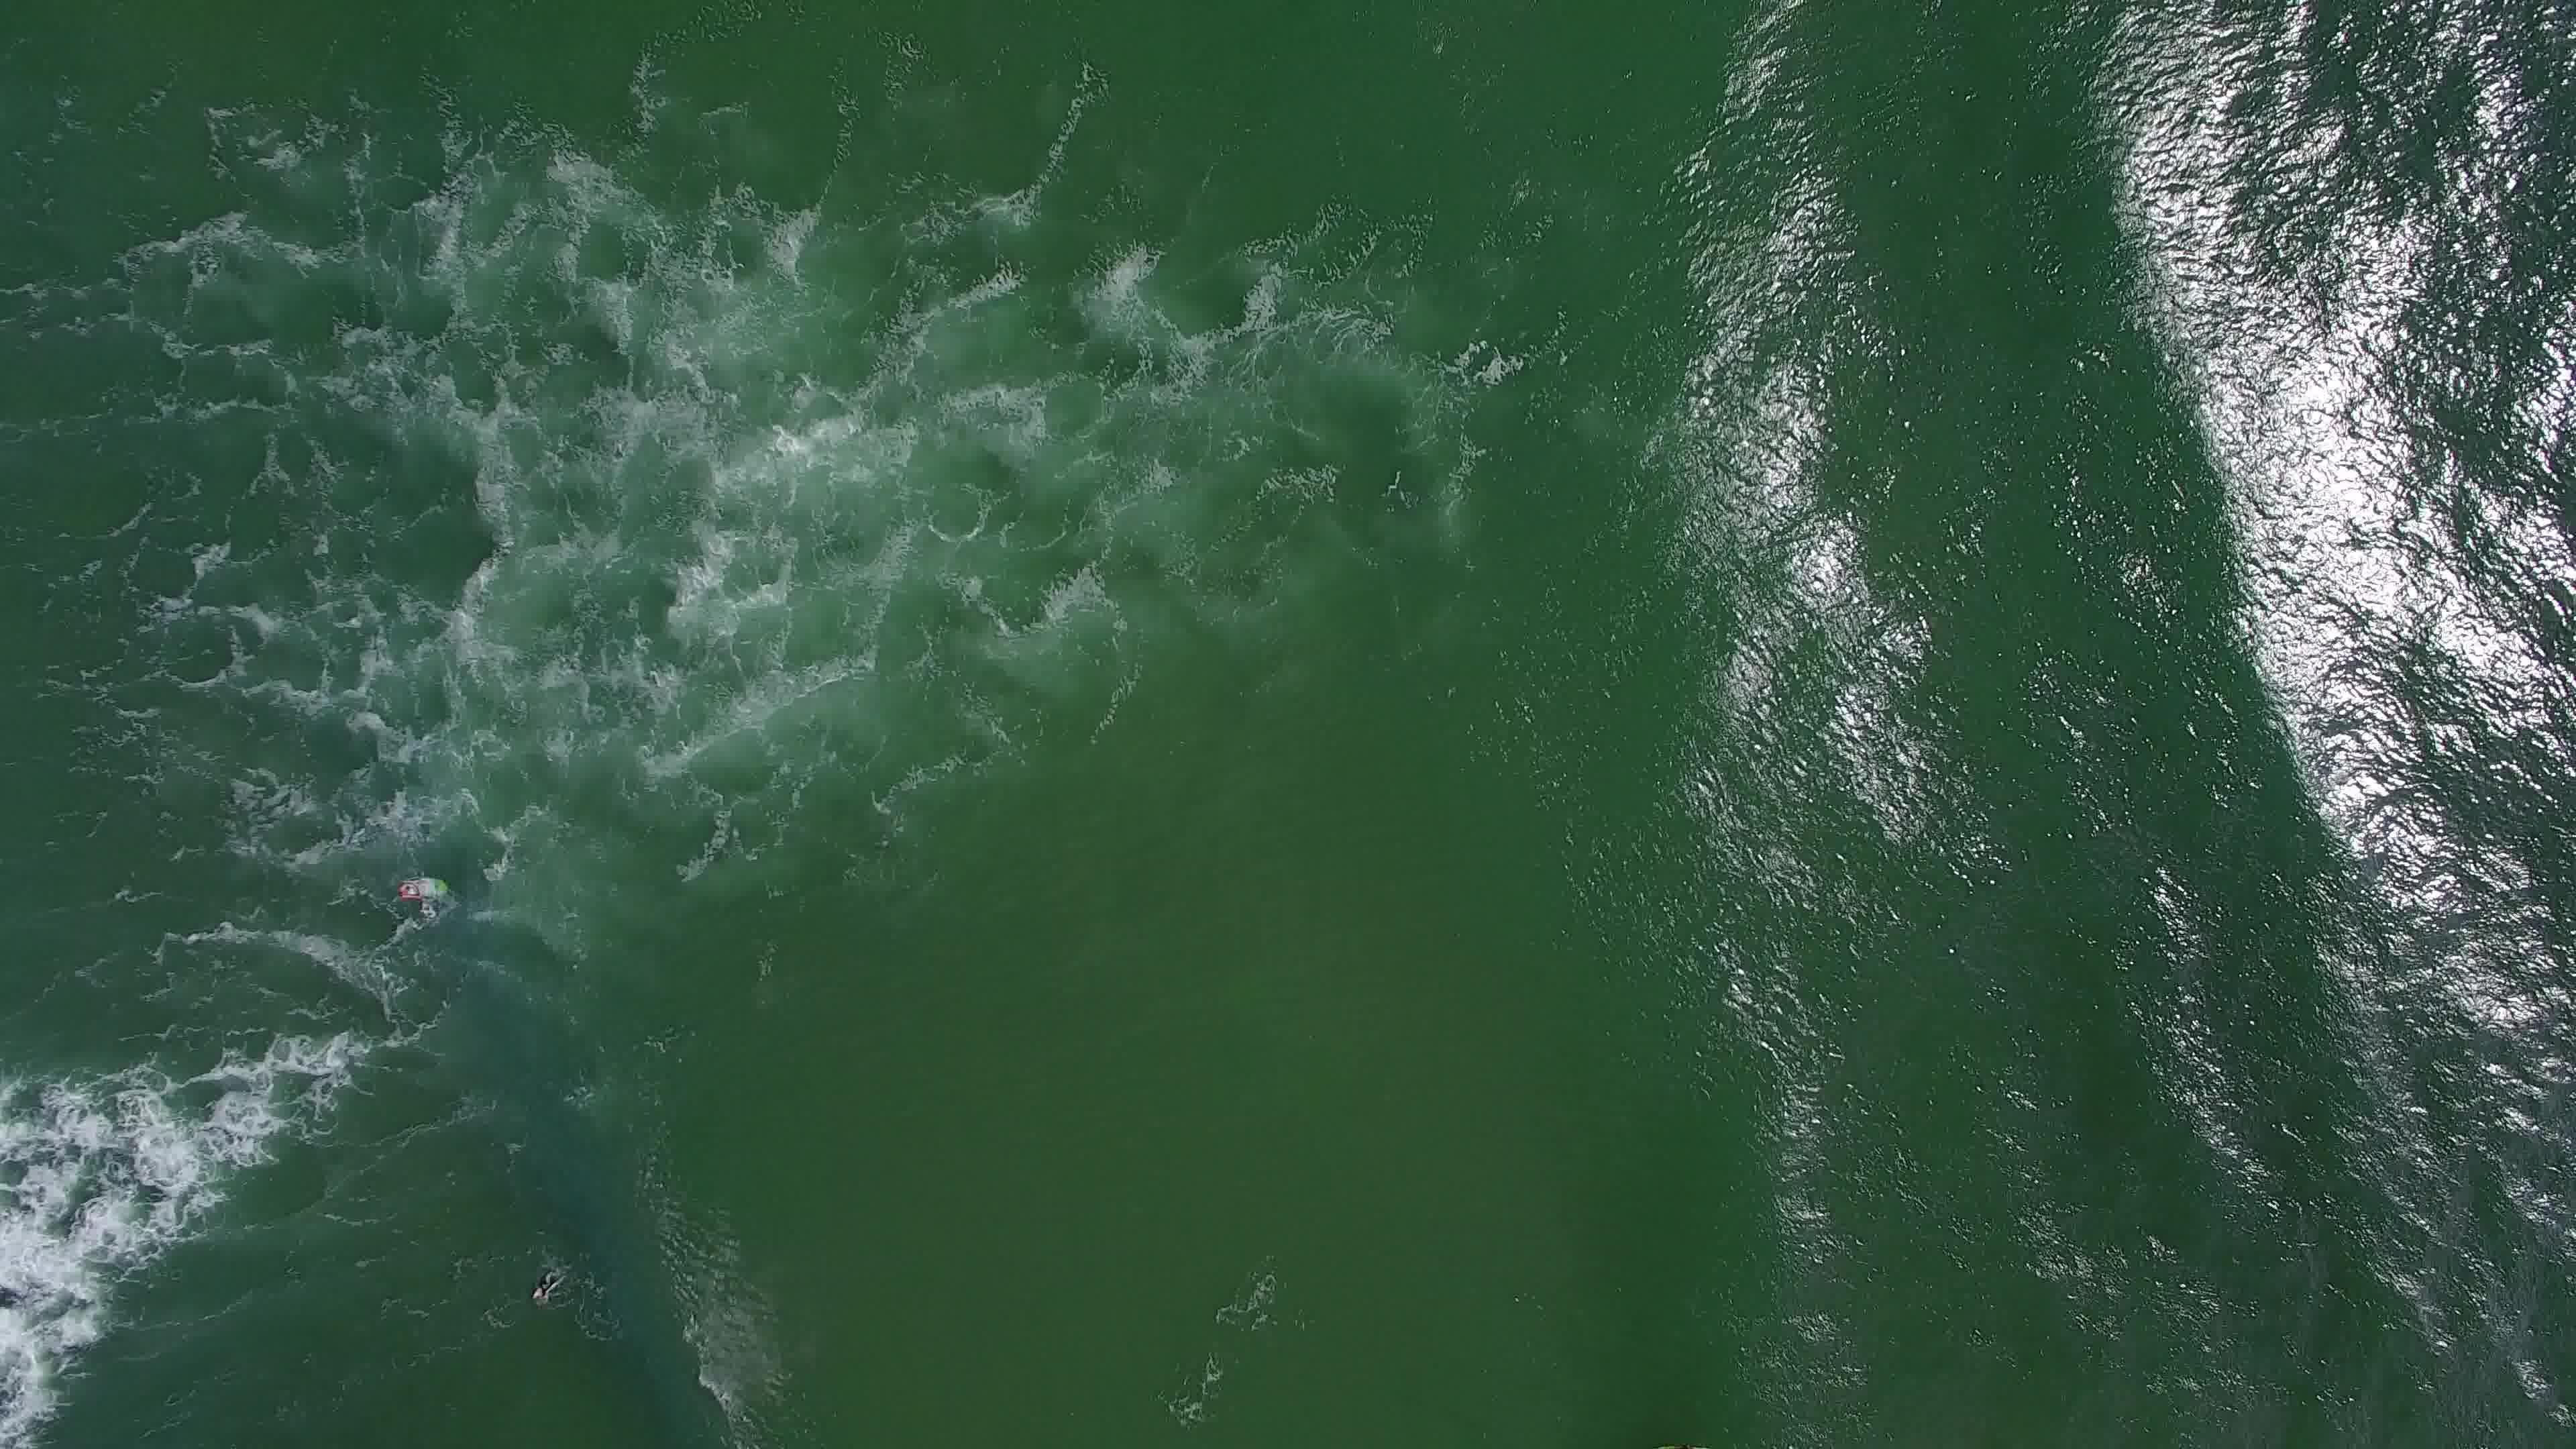surfer: (391, 867, 460, 915)
